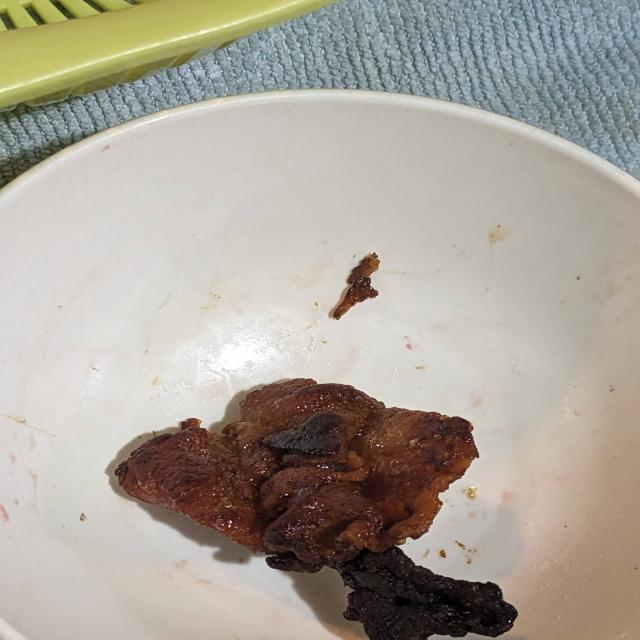overcooked pork: (91, 370, 534, 640)
